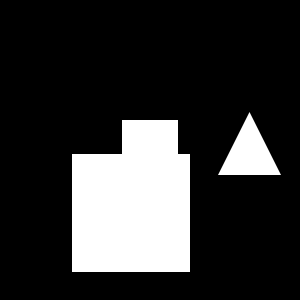circle: (72, 154, 190, 272), (122, 120, 178, 176)
triangle: (218, 112, 281, 175)
